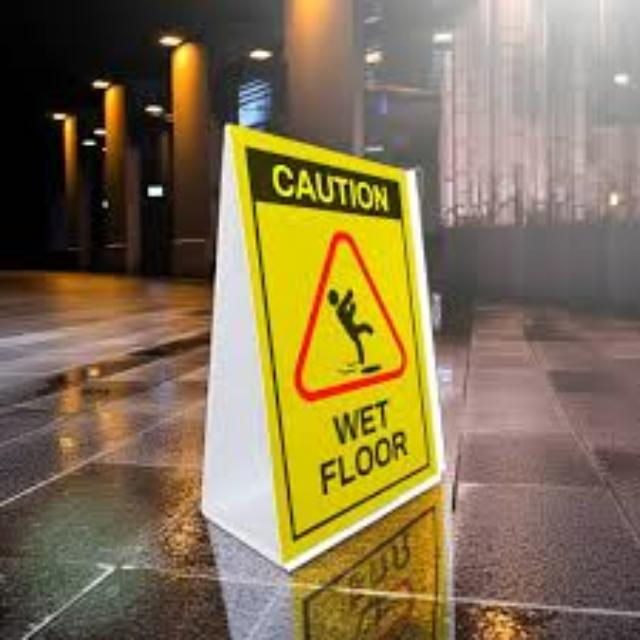tron truot: (202, 128, 438, 569)
